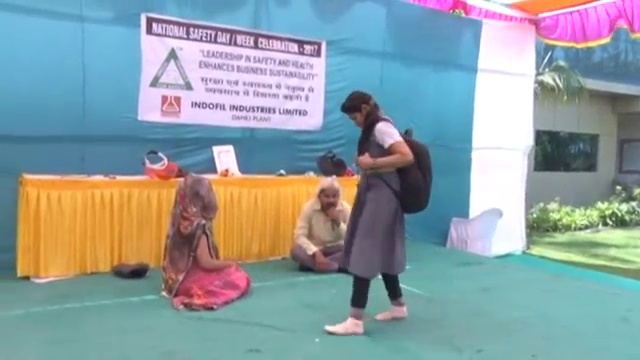helmet_off: (173, 175, 219, 220), (345, 92, 376, 127), (317, 178, 343, 214)
person: (322, 90, 433, 337), (160, 174, 253, 311), (290, 177, 354, 276)
